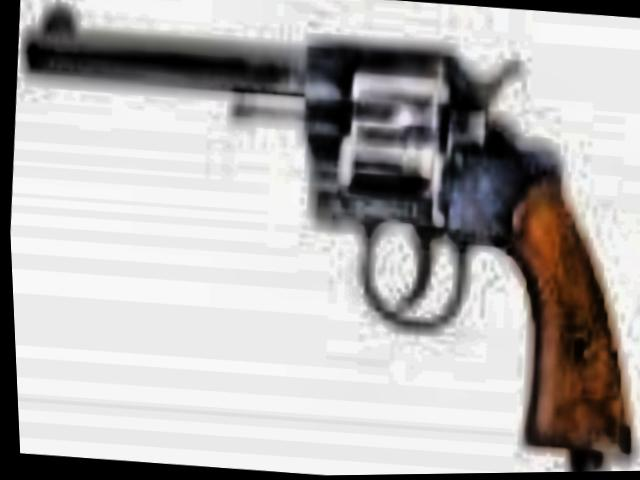pistol: (0, 0, 640, 466)
